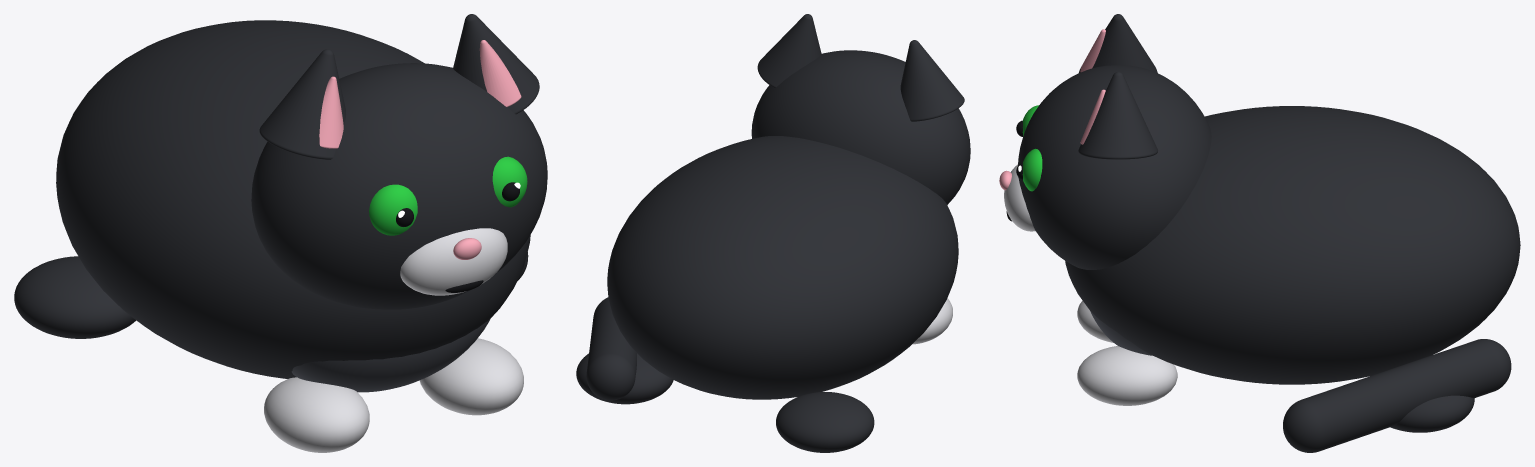
Rendered from chonk_cat.glb.
The picture shows the model from 3 angles, left to right: view 1: azimuth 30°, elevation 25°; view 2: azimuth 150°, elevation 25°; view 3: azimuth 270°, elevation 25°; orthographic projection. The views are drawn at different scales.
Visible parts, largest first — view 1: Loaf, Head.001, BackPaw_R, FrontPaw_R, FrontPaw_L, Chest, EarCone_R, Muzzle, EarCone_L, EyeWhite_R, EarPink_L, EarPink_R (+1 smaller); view 2: Loaf, Head.001, BackPaw_R, TailMesh, EarCone_R, EarCone_L, BackPaw_L, FrontPaw_R; view 3: Loaf, Head.001, TailMesh, FrontPaw_L, EarCone_L, BackPaw_L, EarCone_R, Muzzle, EyeWhite_L, FrontPaw_R, Chest.
Part boxes in pixels (left/top/right/bottom): Loaf: left=56, top=20, right=530, bottom=378; Head.001: left=251, top=63, right=547, bottom=309; BackPaw_R: left=14, top=256, right=135, bottom=338; FrontPaw_R: left=264, top=377, right=369, bottom=452; FrontPaw_L: left=419, top=338, right=523, bottom=415; Chest: left=291, top=318, right=490, bottom=392; EarCone_R: left=259, top=49, right=345, bottom=159; Muzzle: left=400, top=228, right=507, bottom=295; EarCone_L: left=453, top=14, right=539, bottom=114; EyeWhite_R: left=369, top=184, right=417, bottom=235; EarPink_L: left=479, top=40, right=521, bottom=106; EarPink_R: left=319, top=76, right=343, bottom=148; Loaf: left=607, top=136, right=958, bottom=399; Head.001: left=751, top=50, right=970, bottom=204; BackPaw_R: left=776, top=392, right=874, bottom=452; TailMesh: left=586, top=297, right=636, bottom=400; EarCone_R: left=900, top=40, right=964, bottom=121; EarCone_L: left=757, top=14, right=821, bottom=87; BackPaw_L: left=576, top=353, right=673, bottom=404; FrontPaw_R: left=912, top=298, right=952, bottom=344; Loaf: left=1065, top=106, right=1520, bottom=384; Head.001: left=1018, top=65, right=1211, bottom=269; TailMesh: left=1283, top=339, right=1511, bottom=452; FrontPaw_L: left=1077, top=346, right=1177, bottom=405; EarCone_L: left=1078, top=72, right=1157, bottom=159; BackPaw_L: left=1390, top=395, right=1474, bottom=432; EarCone_R: left=1079, top=14, right=1157, bottom=73; Muzzle: left=1004, top=164, right=1035, bottom=231; EyeWhite_L: left=1022, top=148, right=1042, bottom=191; FrontPaw_R: left=1077, top=301, right=1113, bottom=342; Chest: left=1090, top=311, right=1152, bottom=355.
Bounding box in the file's own units: 0.45 × 0.3936 × 0.57.
